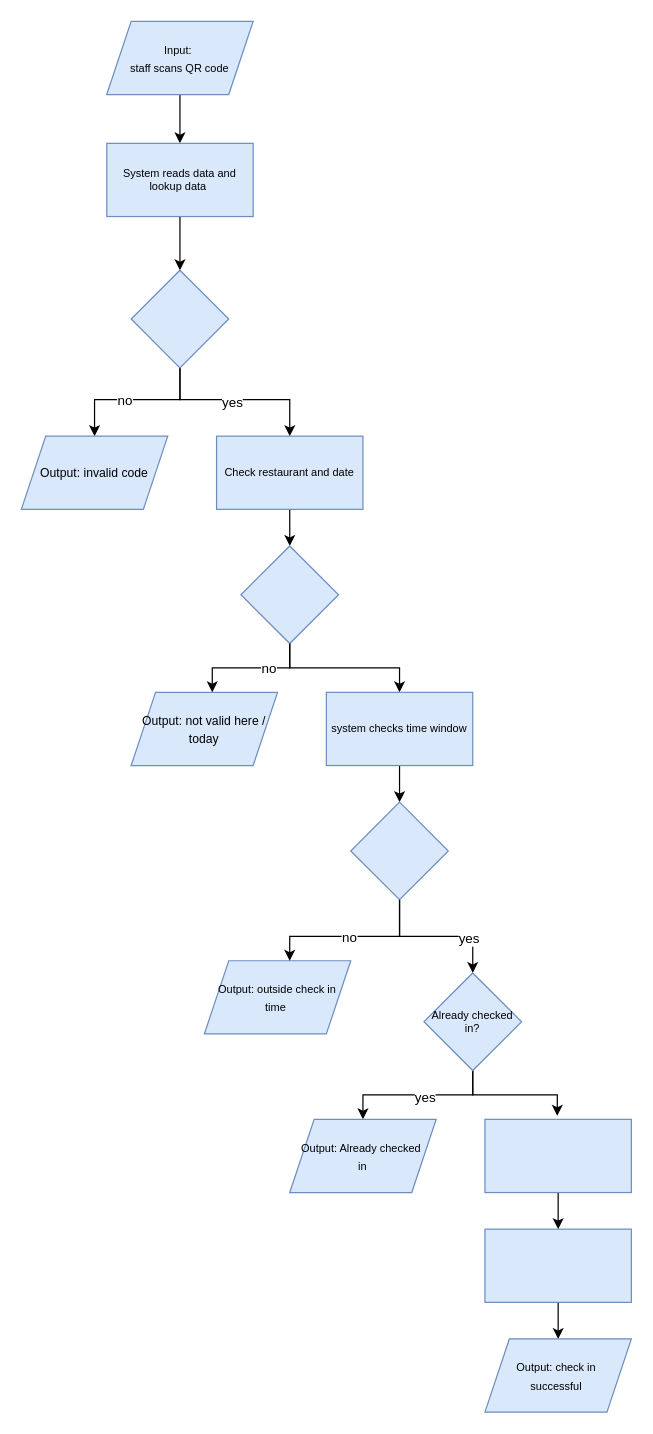
Image size: 653x1434. Some labels were removed from this diagram. The box of each missing label's shape, as (x1, y1, x2, y2) in pixels:
Booking found?: (130, 269, 229, 368)
Is it within allowed time?: (350, 801, 448, 900)
System marks booking as checked in: (484, 1118, 631, 1193)
System updates occupancy: (484, 1228, 631, 1302)
Valid for this restaurant and today?: (240, 545, 339, 644)
